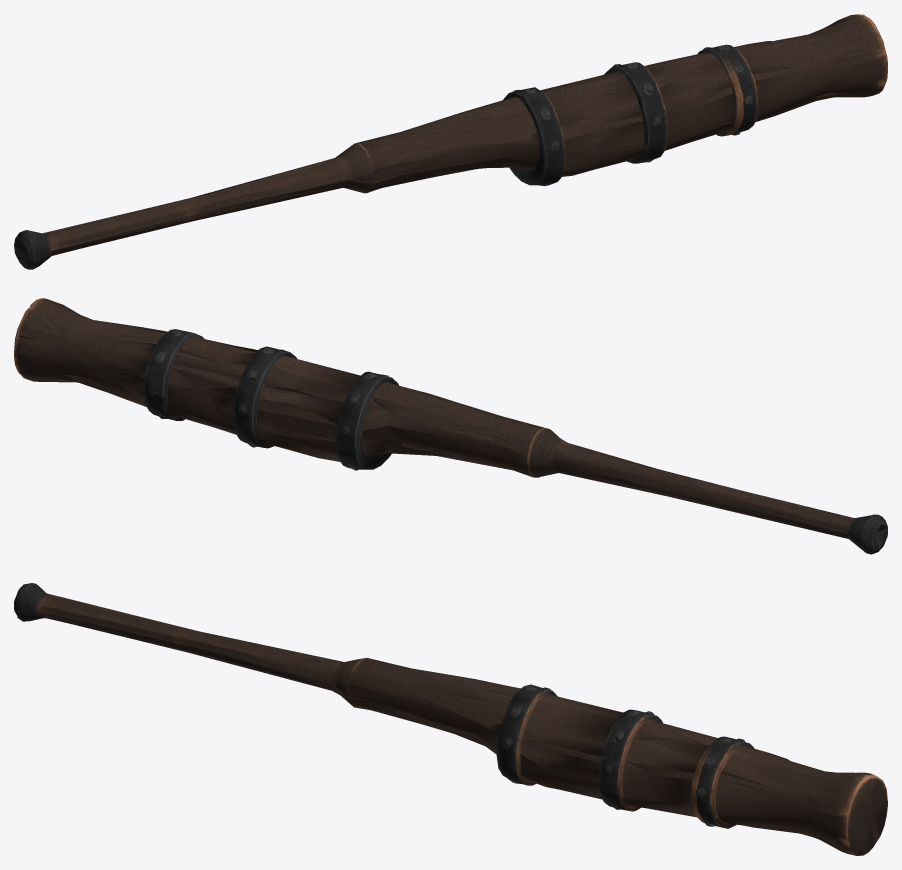
File: modelo.fbx
3 views of the same model, one above another, from view 1: azimuth 30°, elevation 25°; view 2: azimuth 150°, elevation 25°; view 3: azimuth 330°, elevation 25° (orthographic).
Parts seen in each view (by area): view 1: Mesh_0; view 2: Mesh_0; view 3: Mesh_0.
Boxes of the visible parts, x1=… form: Mesh_0: x1=14, y1=14, x2=887, y2=269; Mesh_0: x1=14, y1=298, x2=887, y2=554; Mesh_0: x1=14, y1=583, x2=887, y2=855.
Bounding box in the file's own units: 190 × 20.67 × 19.97.
Materials: 1 (1 with a texture image).
